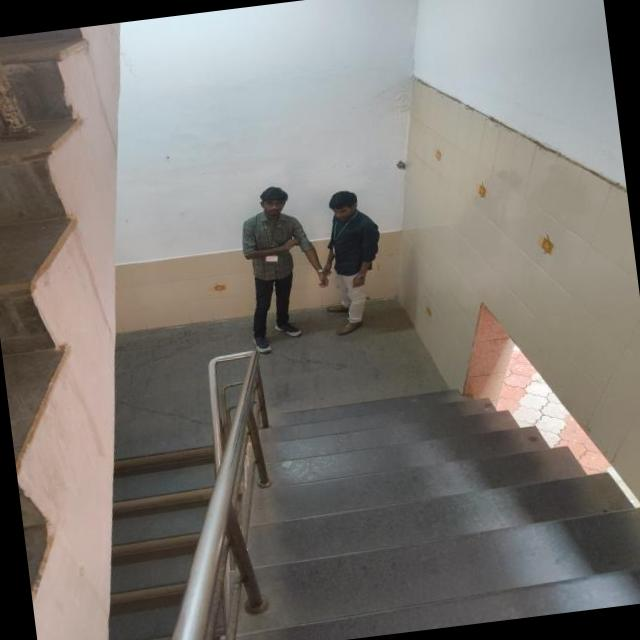id_card: (324, 212, 358, 262), (258, 208, 287, 266)
